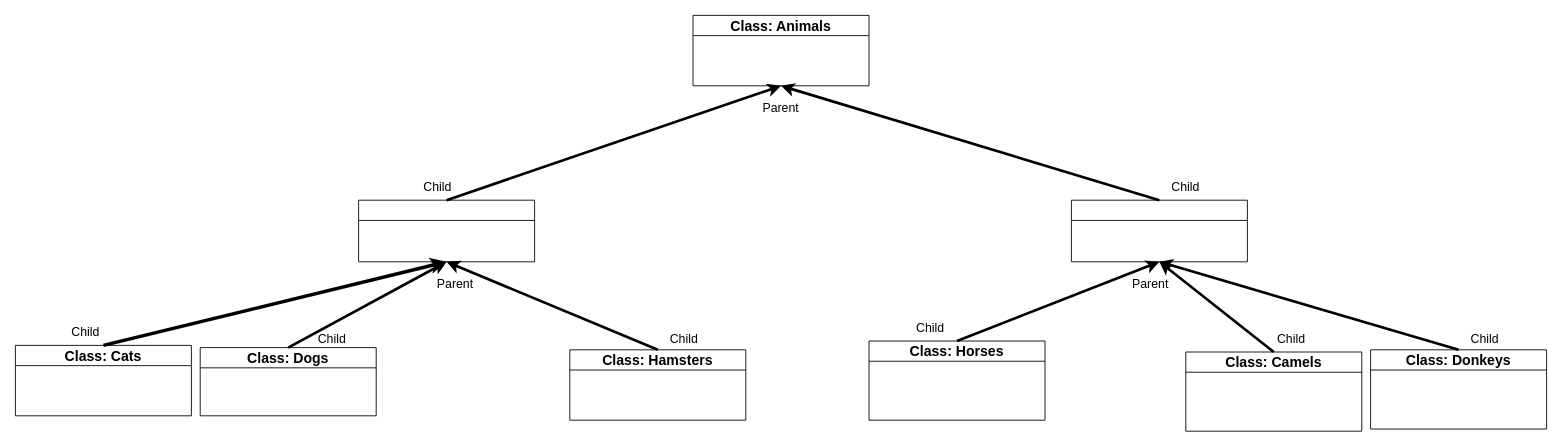
Some shapes in this 1562 by 447 pixel diagram are drawn without their labels. The shapes that lost their labels are listed below. From the top down, each one's centre as x and y in pixels, then its label:
point 446,230: Class: Pets
point 1159,230: Class: Pack Animals
